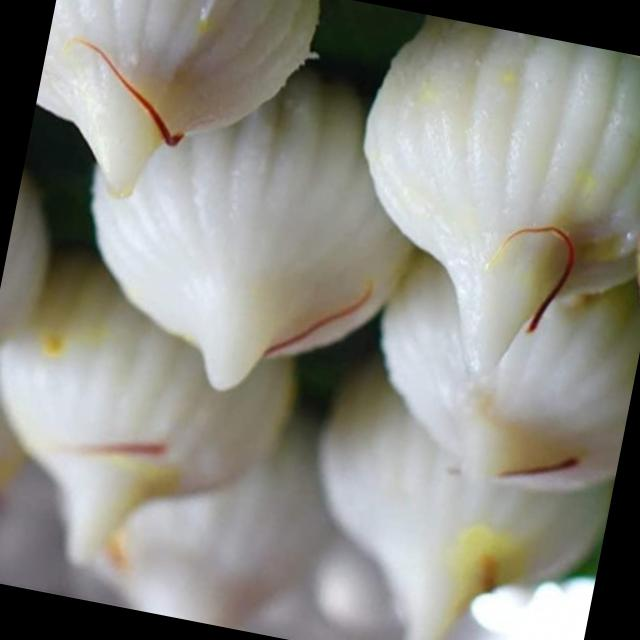modak: (0, 0, 620, 631)
